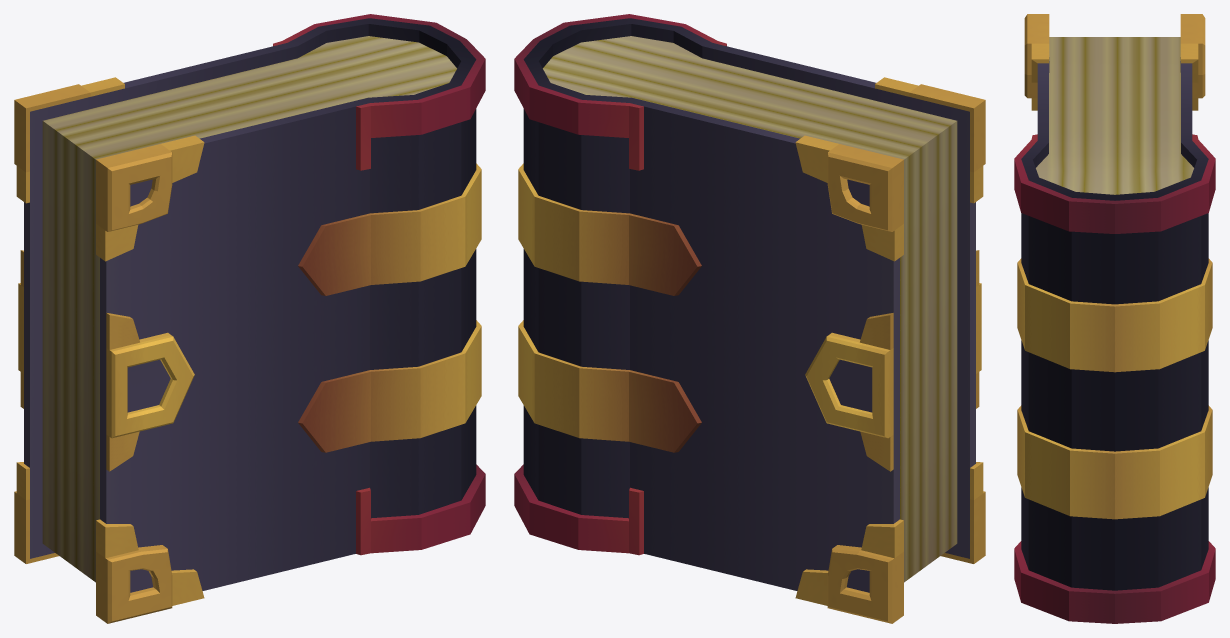
File: Book_2.fbx
The picture shows the model from 3 angles, left to right: view 1: azimuth 30°, elevation 25°; view 2: azimuth 150°, elevation 25°; view 3: azimuth 270°, elevation 25°; orthographic projection. The views are drawn at different scales.
Parts seen in each view (by area): view 1: Book_2; view 2: Book_2; view 3: Book_2.
Part boxes in pixels (x1,y1,x2,y2): Book_2: (14,14,485,623); Book_2: (514,14,985,623); Book_2: (1014,14,1215,623).
Size of the model in its own units: 29.58 by 31.74 by 13.55.
